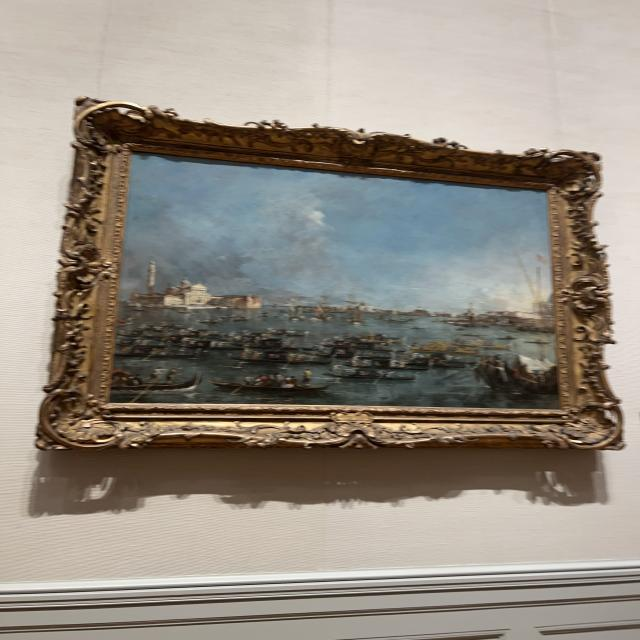ships: (114, 159, 554, 404)
